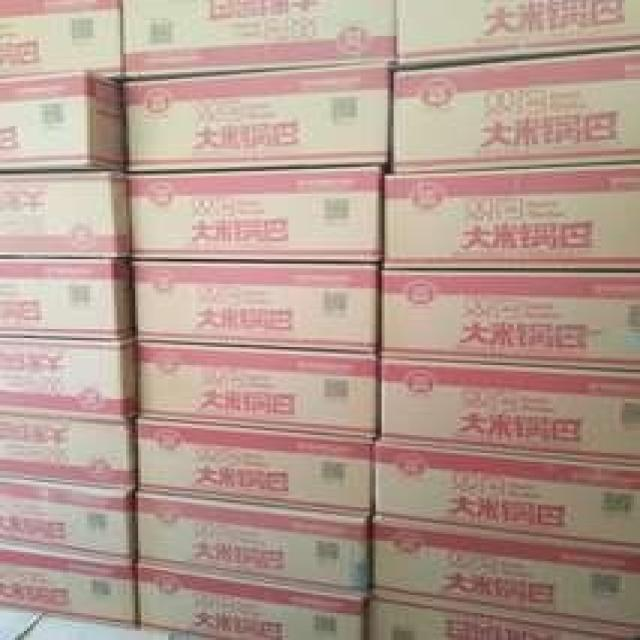box: (373, 518, 640, 640), (391, 50, 640, 169), (379, 358, 640, 466), (126, 65, 388, 171), (376, 444, 640, 548), (385, 167, 640, 270), (379, 273, 640, 372), (135, 494, 367, 597), (129, 167, 382, 261), (138, 419, 373, 516), (138, 343, 376, 435), (132, 264, 376, 352), (123, 2, 397, 79), (132, 563, 364, 640), (0, 72, 126, 171), (0, 478, 135, 561), (0, 340, 138, 419), (0, 543, 138, 622), (0, 174, 129, 257), (367, 599, 622, 640), (0, 261, 135, 338), (0, 412, 135, 489), (0, 2, 123, 79), (21, 613, 177, 640), (0, 606, 45, 640)
